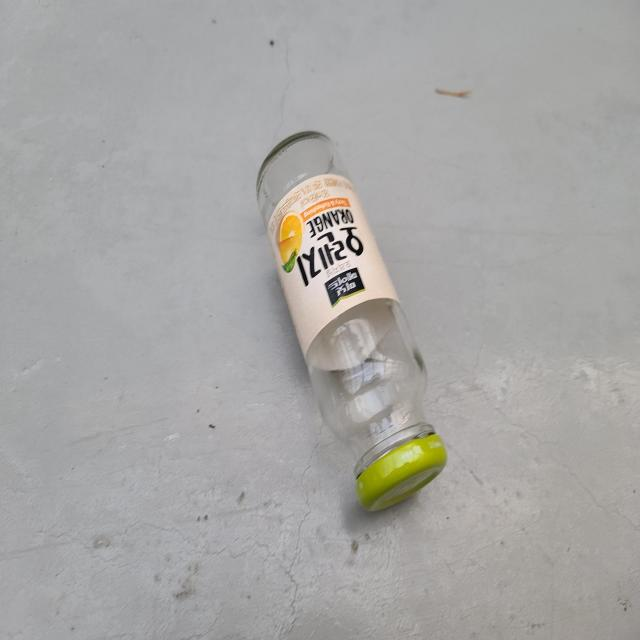glass: (257, 130, 447, 511)
